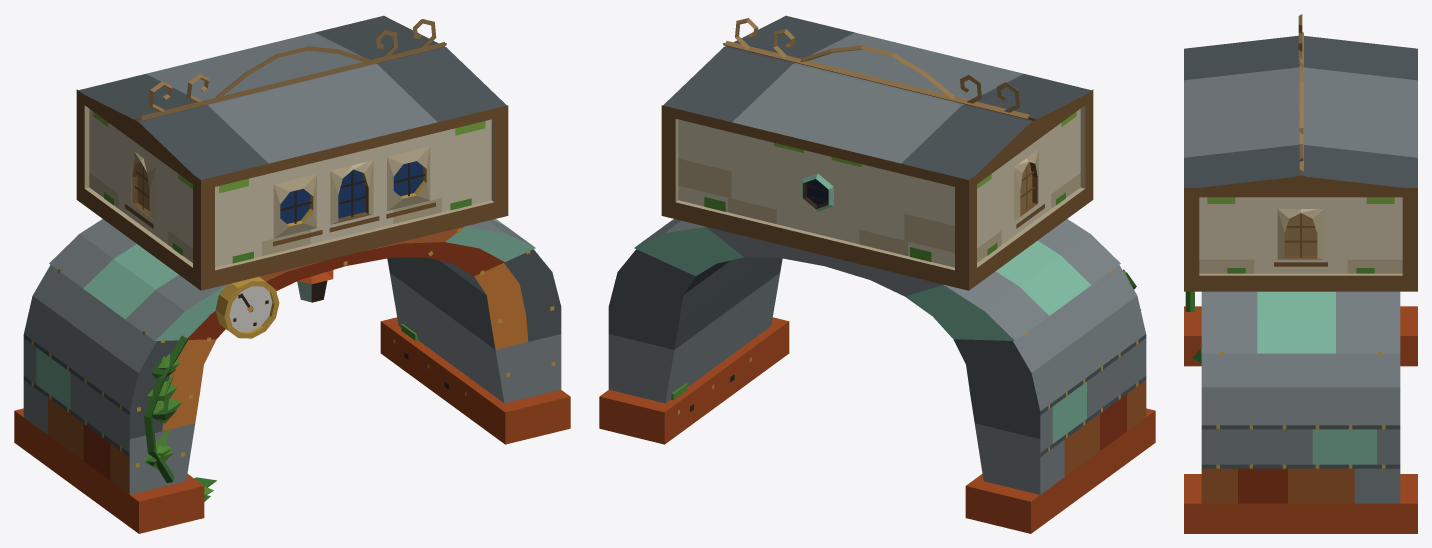
The model's file is arch-gatehouse-f4391b.glb.
The picture shows the model from 3 angles, left to right: view 1: azimuth 30°, elevation 25°; view 2: azimuth 150°, elevation 25°; view 3: azimuth 270°, elevation 25°; orthographic projection. The views are drawn at different scales.
Parts seen in each view (by area): view 1: gate, arch-lamp-mesh; view 2: gate; view 3: gate.
Boxes of the visible parts, x1=… form: gate: x1=14, y1=15, x2=570, y2=533; arch-lamp-mesh: x1=297, y1=270, x2=333, y2=302; gate: x1=599, y1=15, x2=1155, y2=533; gate: x1=1184, y1=14, x2=1417, y2=533.
Size of the model in its own units: 8 by 6.84 by 4.
